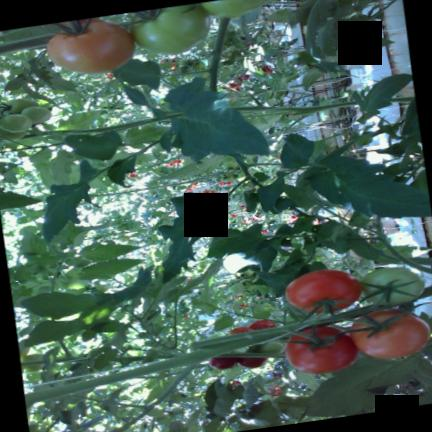6kp_peduncle: (178, 332, 243, 365)
6kp_petiole: (154, 342, 226, 385), (55, 338, 85, 361)
MainStem: (24, 331, 285, 404), (51, 112, 182, 132), (233, 101, 355, 111)
tomato: (0, 17, 133, 73), (129, 3, 208, 53), (349, 309, 430, 357), (284, 325, 357, 373), (285, 268, 361, 312), (359, 266, 423, 304), (201, 0, 263, 16), (0, 113, 32, 131), (20, 105, 50, 123), (6, 97, 37, 113), (21, 352, 43, 372), (209, 356, 238, 368), (258, 339, 283, 352), (237, 356, 265, 367), (248, 318, 275, 329), (0, 128, 26, 139), (229, 325, 252, 333), (228, 282, 245, 292), (221, 172, 236, 181), (222, 160, 237, 168), (242, 268, 254, 275), (237, 171, 244, 180)
